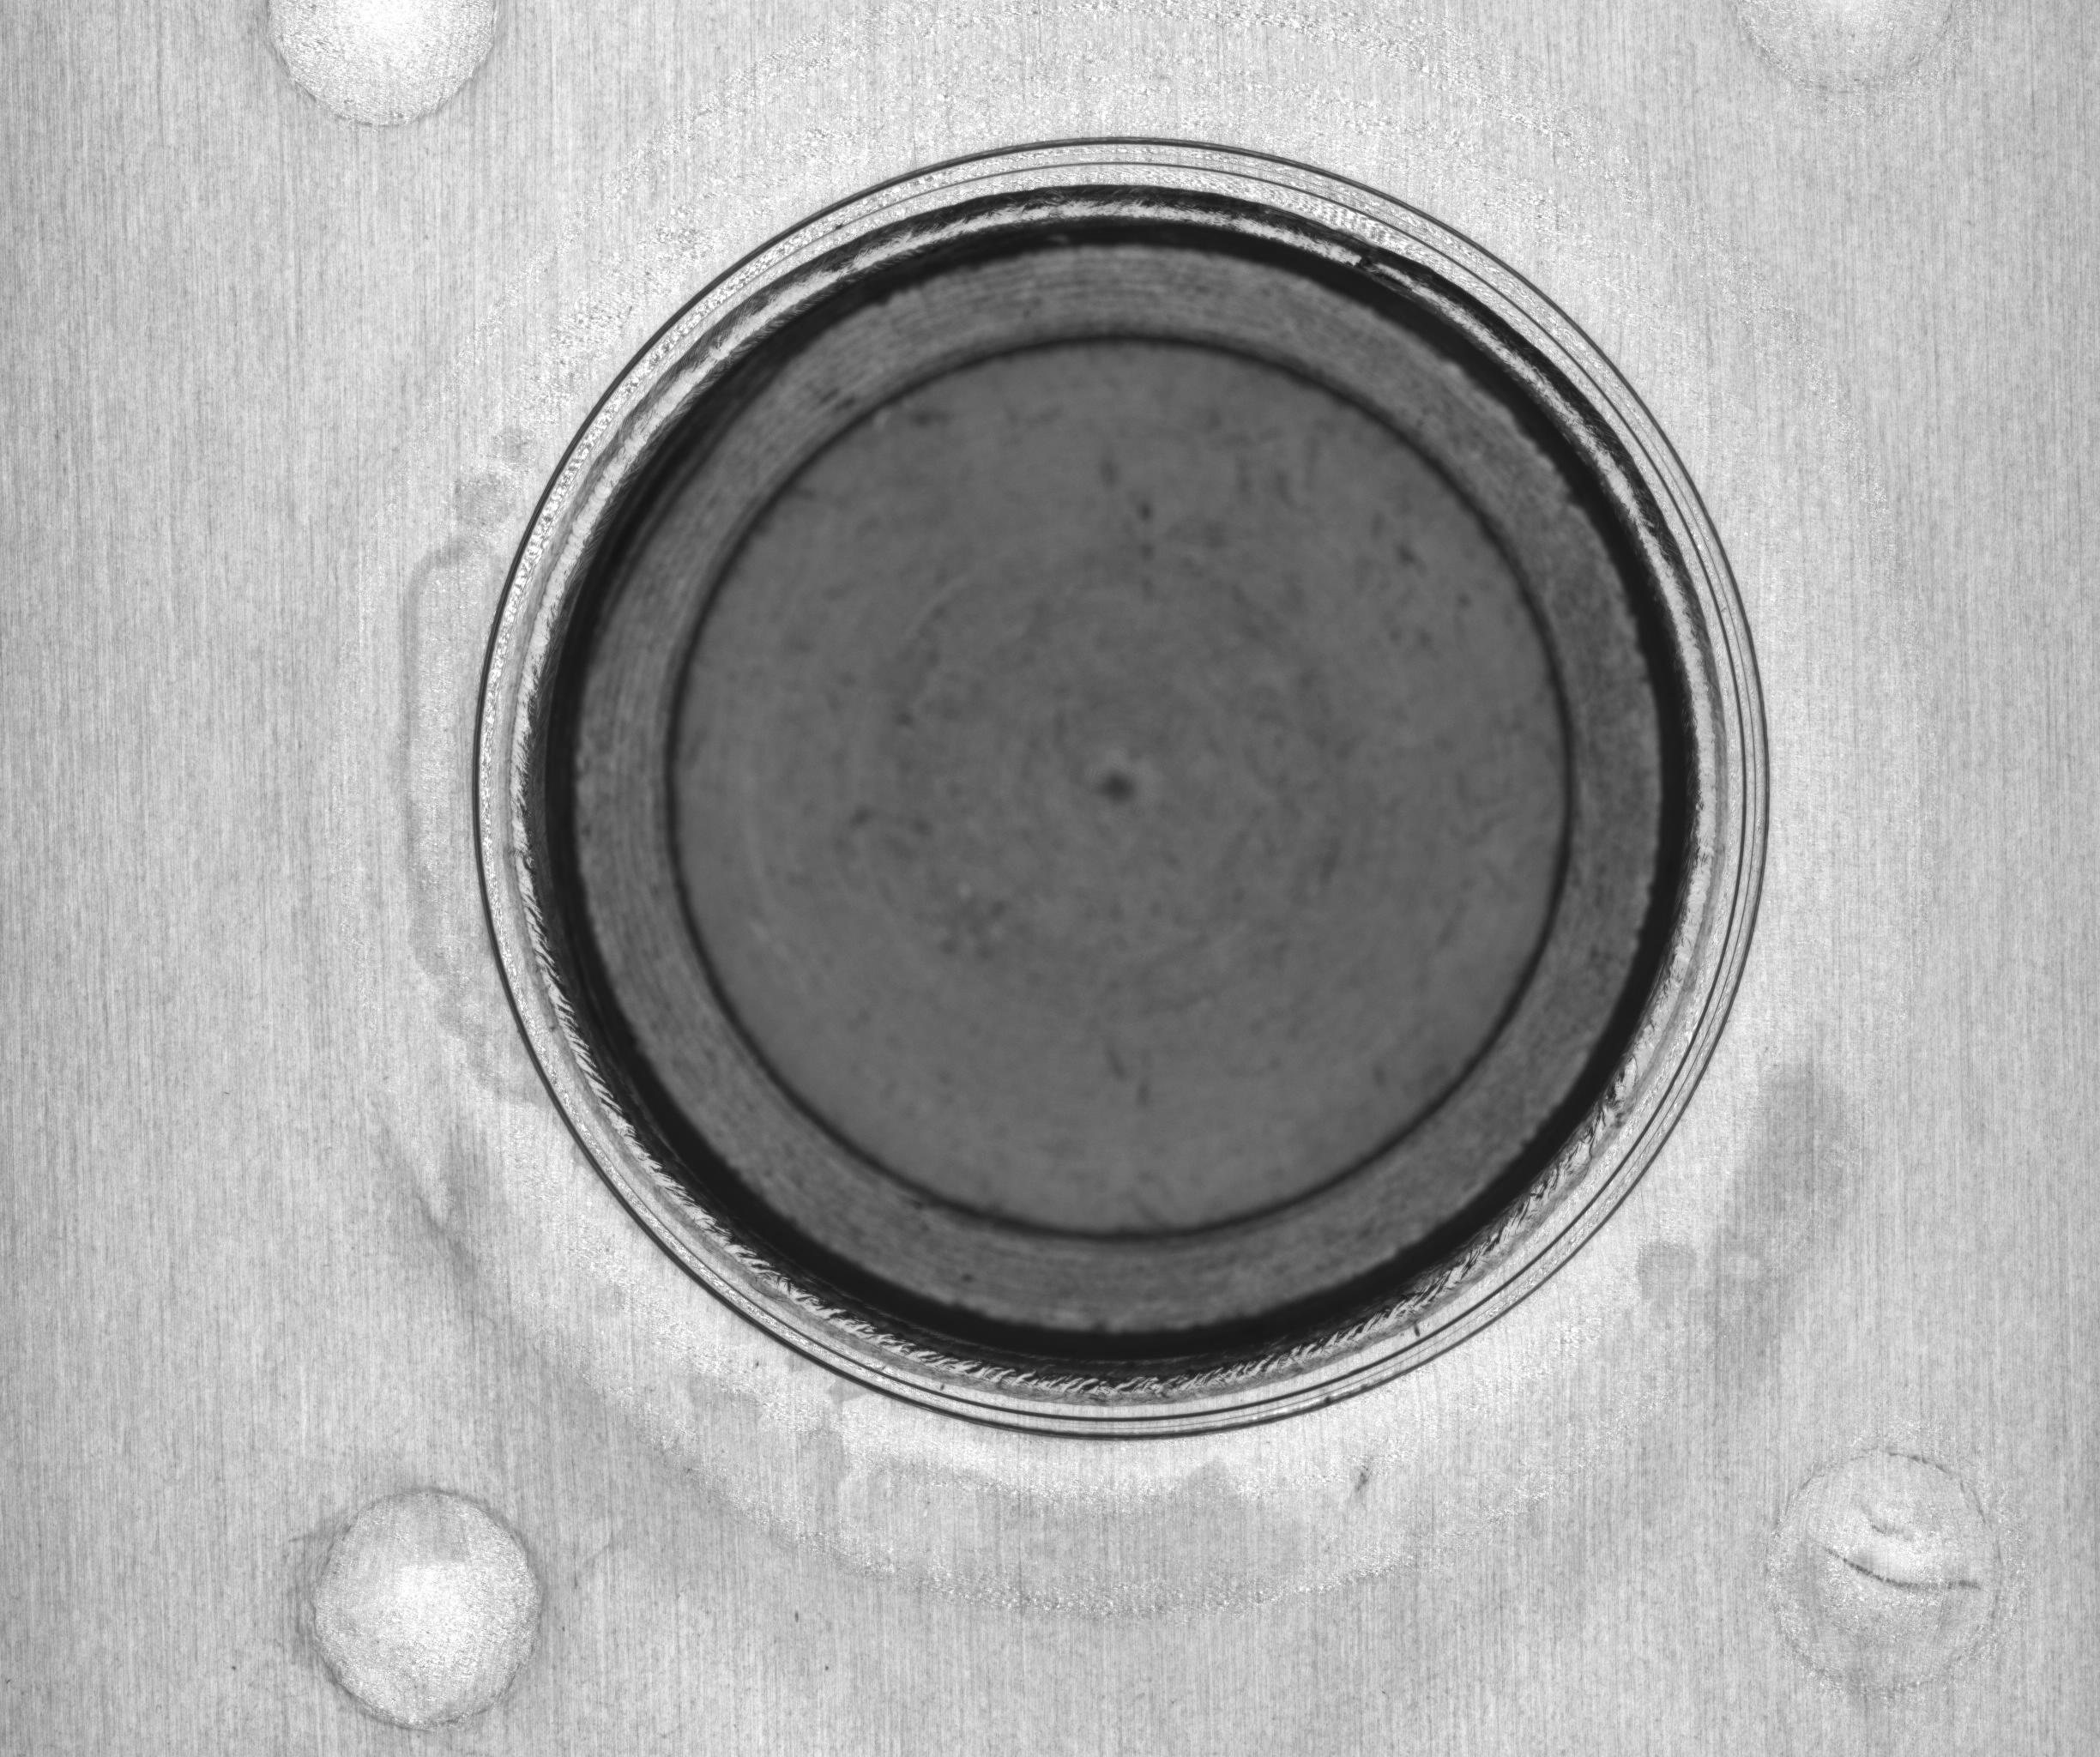coveriswrong: (532, 195, 1718, 1375)
